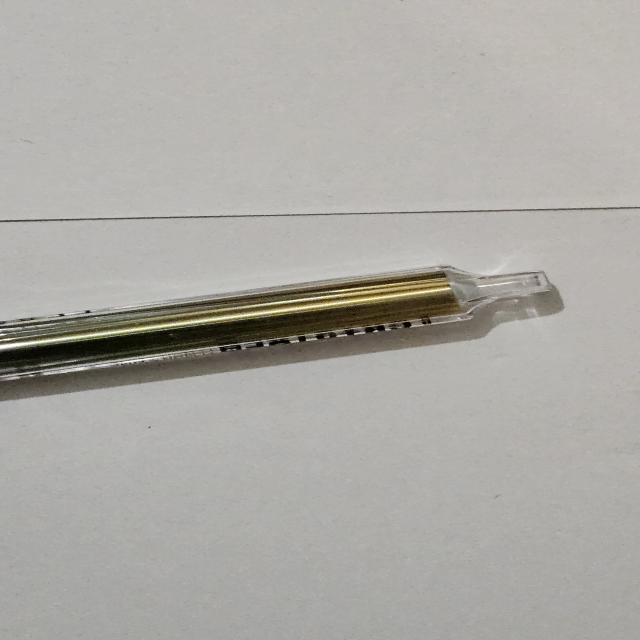Hazard: (1, 263, 563, 384)
